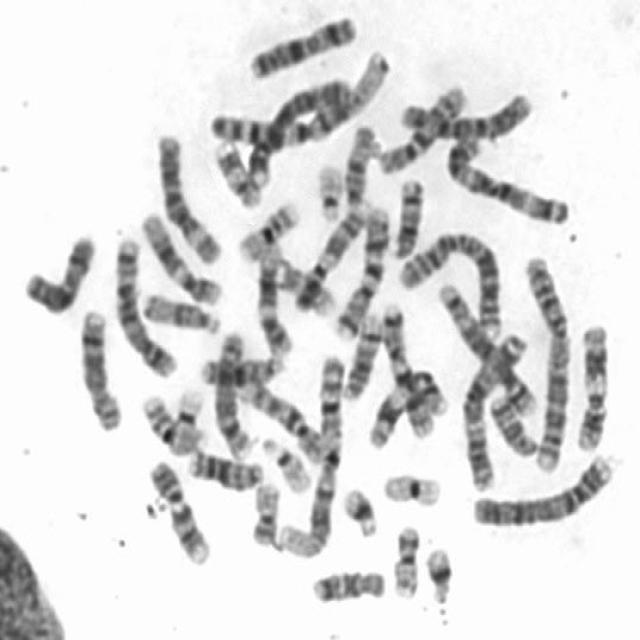A1: (203, 45, 395, 150), (271, 348, 348, 561)
A2: (393, 222, 507, 340), (518, 245, 573, 474)
A3: (438, 126, 572, 226), (455, 326, 530, 491)
B4: (241, 68, 355, 187), (466, 445, 616, 529)
B5: (433, 274, 541, 419), (109, 228, 180, 380)
C10: (373, 76, 469, 176), (238, 374, 330, 466)
C11: (363, 362, 448, 452), (570, 317, 610, 452)
C12: (136, 204, 225, 309), (252, 238, 296, 357)
C6: (150, 125, 224, 266), (395, 85, 534, 142)
C7: (328, 197, 393, 341), (376, 296, 440, 440)
C8: (73, 302, 125, 433), (209, 323, 253, 459)
C9: (286, 198, 372, 314), (143, 452, 214, 568)
D13: (184, 443, 266, 491), (196, 348, 286, 387)
D14: (338, 308, 386, 400), (384, 171, 426, 260)
D15: (138, 286, 224, 336), (339, 117, 380, 211)
E16: (135, 386, 208, 454), (234, 192, 302, 264)
E17: (271, 253, 339, 317), (209, 135, 264, 209)
E18: (482, 388, 542, 458), (307, 562, 390, 607)
F19: (376, 464, 444, 509), (164, 382, 206, 453)
F20: (386, 518, 422, 601), (245, 475, 283, 548)
G21: (337, 478, 381, 538), (420, 538, 456, 606)
G22: (257, 428, 315, 496), (310, 153, 348, 224)
X: (241, 7, 361, 81), (17, 225, 99, 316)
